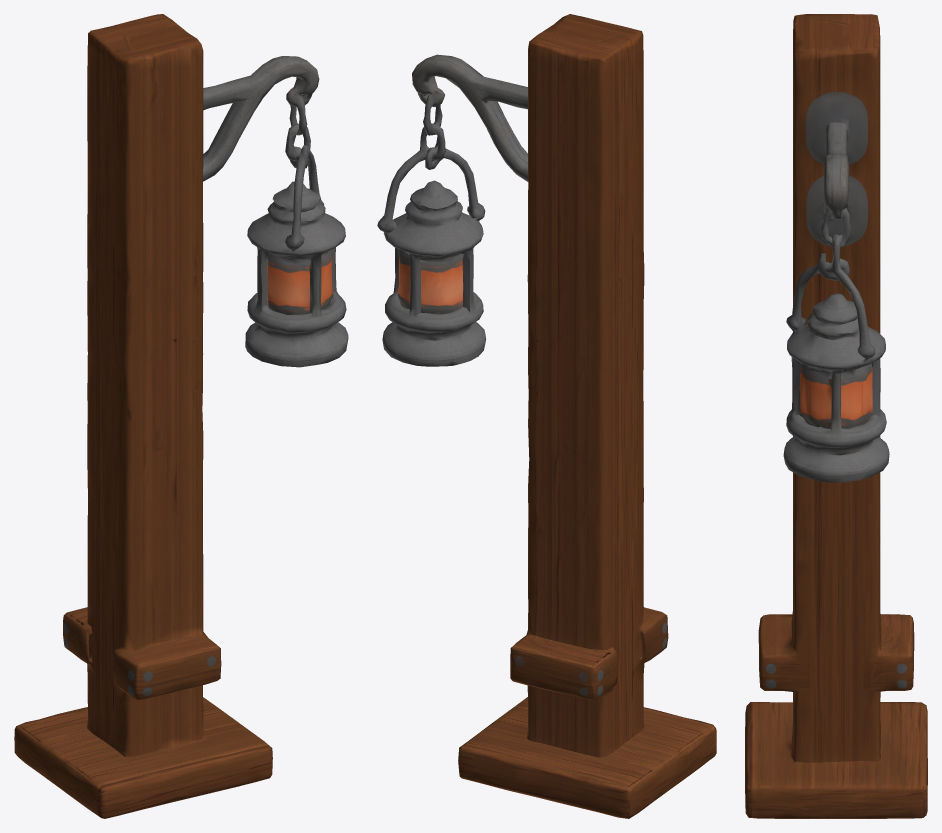
Rendered from lantern.glb.
The picture shows the model from 3 angles, left to right: view 1: azimuth 30°, elevation 25°; view 2: azimuth 150°, elevation 25°; view 3: azimuth 270°, elevation 25°; orthographic projection. The views are drawn at different scales.
Parts seen in each view (by area): view 1: world; view 2: world; view 3: world.
Part boxes in pixels (<box>): world: <box>14,14,348,818</box>; world: <box>377,14,716,818</box>; world: <box>745,14,927,818</box>.
Bounding box in the file's own units: 0.4078 × 1 × 0.2218.
Materials: 1 (1 with a texture image).
